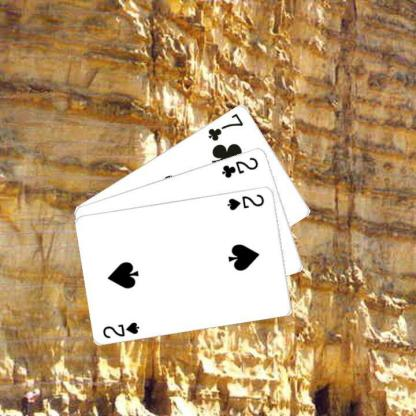2C: (219, 154, 260, 179)
2S: (225, 192, 266, 212), (100, 320, 141, 339)
7C: (205, 110, 245, 142)
